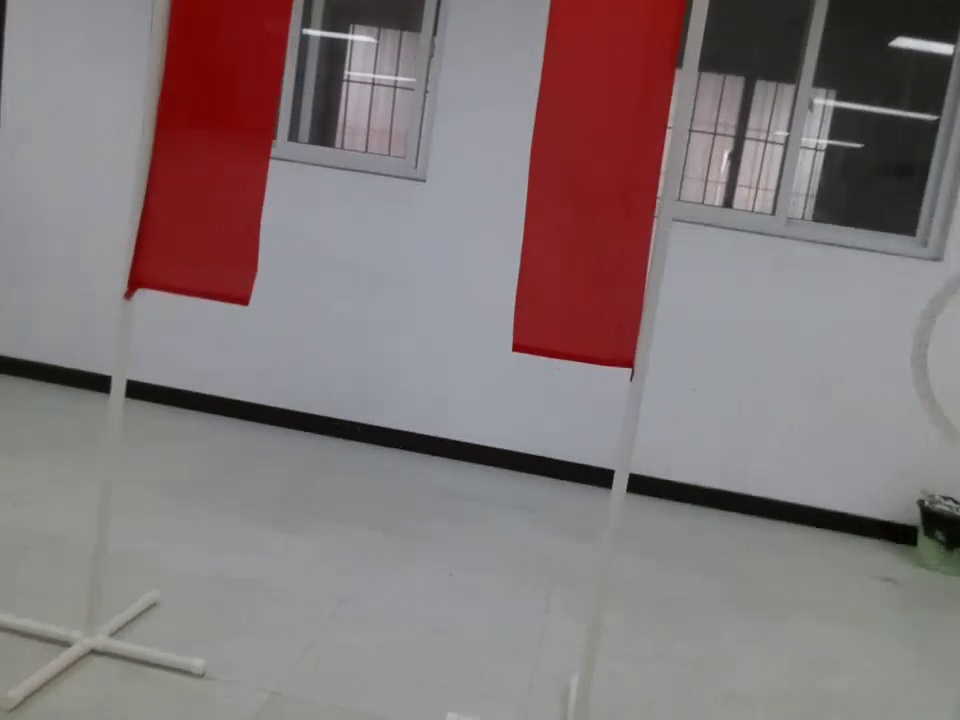qi: (510, 1, 693, 397), (114, 1, 289, 305)
quan: (899, 253, 960, 448)
